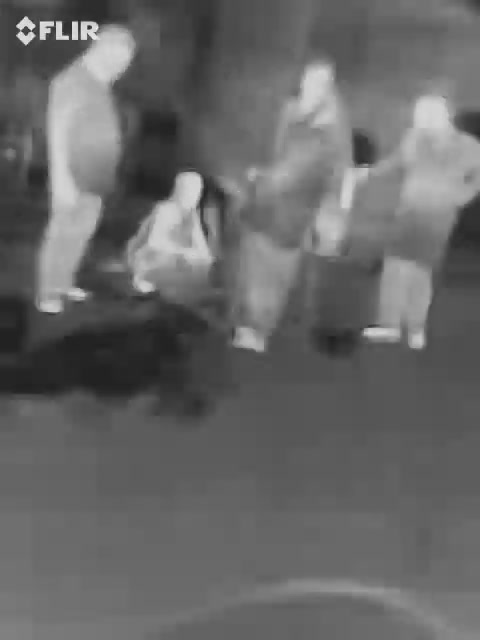head: (87, 26, 133, 88)
